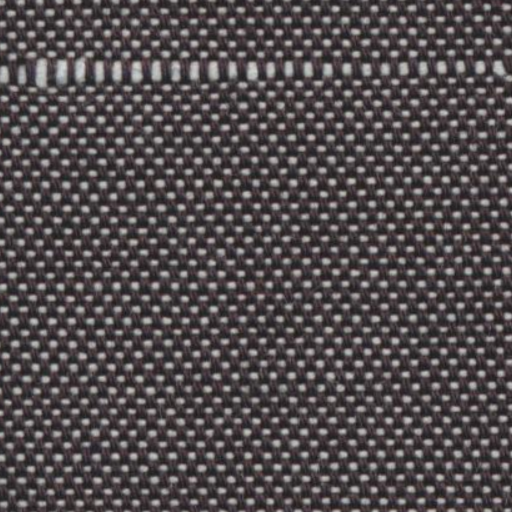DaiSha: (6, 42, 488, 96)
